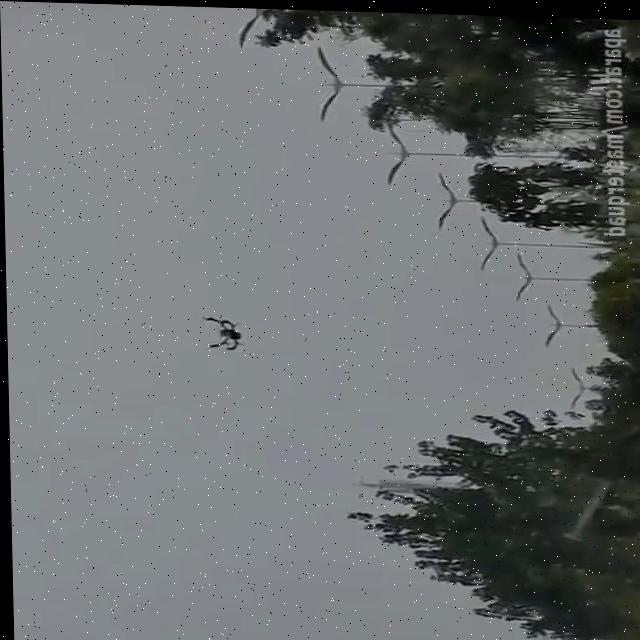drone: (192, 309, 243, 353)
